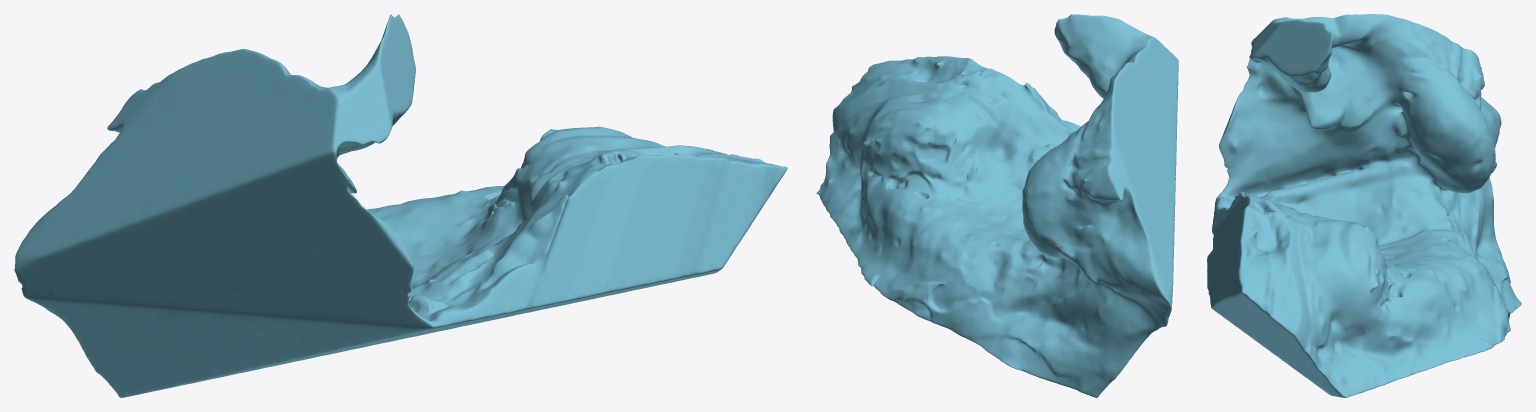
Rendered from sinus-dura.glb.
3 renders of one model, left to right at view 1: azimuth 30°, elevation 25°; view 2: azimuth 150°, elevation 25°; view 3: azimuth 270°, elevation 25°, orthographic. The views are drawn at different scales.
Visible parts, largest first — view 1: geometry_0; view 2: geometry_0; view 3: geometry_0.
Part boxes in pixels (x1=…): geometry_0: x1=14, y1=14, x2=787, y2=397; geometry_0: x1=816, y1=14, x2=1178, y2=397; geometry_0: x1=1207, y1=14, x2=1521, y2=397.
Bounding box in the file's own units: 70.33 × 46.44 × 41.41.
